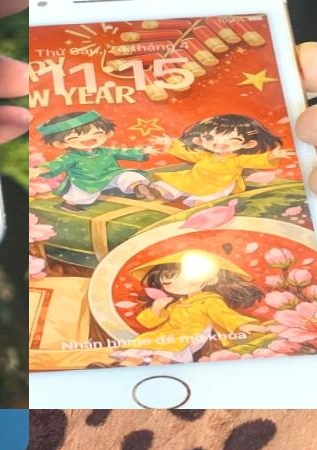scratch: (29, 0, 167, 9)
